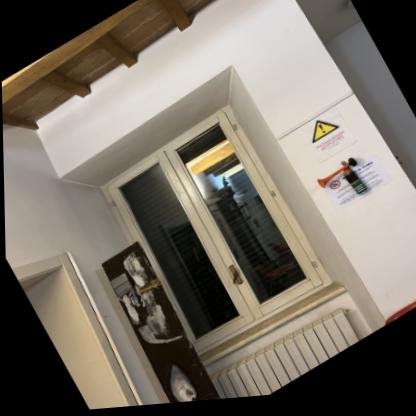Window: (96, 108, 329, 359)
